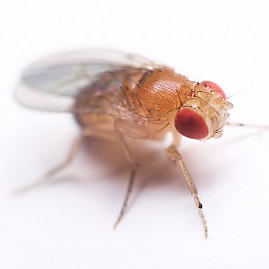phorid fly: (14, 32, 266, 245)
